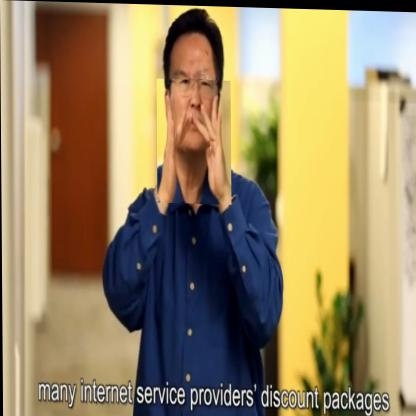Internet: (156, 78, 231, 203)
